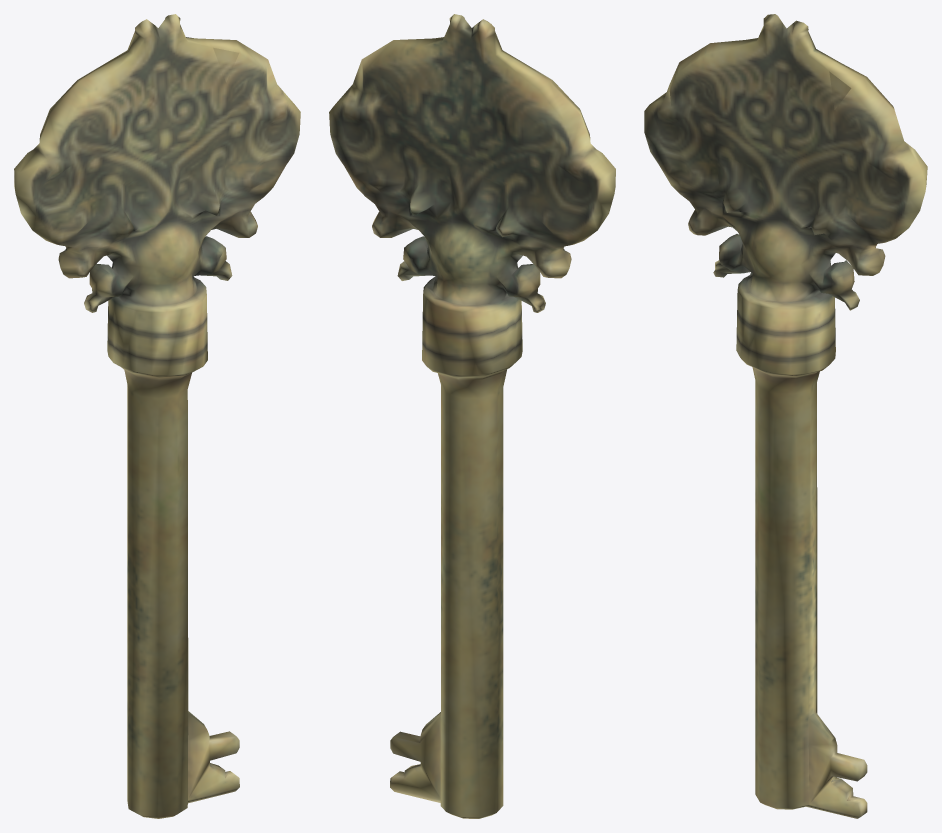
Rendered from key_05.glb.
3 renders of one model, left to right at view 1: azimuth 30°, elevation 25°; view 2: azimuth 150°, elevation 25°; view 3: azimuth 330°, elevation 25°, orthographic.
Visible parts, largest first — view 1: Key; view 2: Key; view 3: Key.
Part boxes in pixels (box(x1,y1,x2,y2)): Key: box(14, 14, 300, 818); Key: box(329, 14, 615, 818); Key: box(644, 14, 927, 818).
Bounding box in the file's own units: 0.0374 × 0.1 × 0.0116.
1 material, 1 textured.
